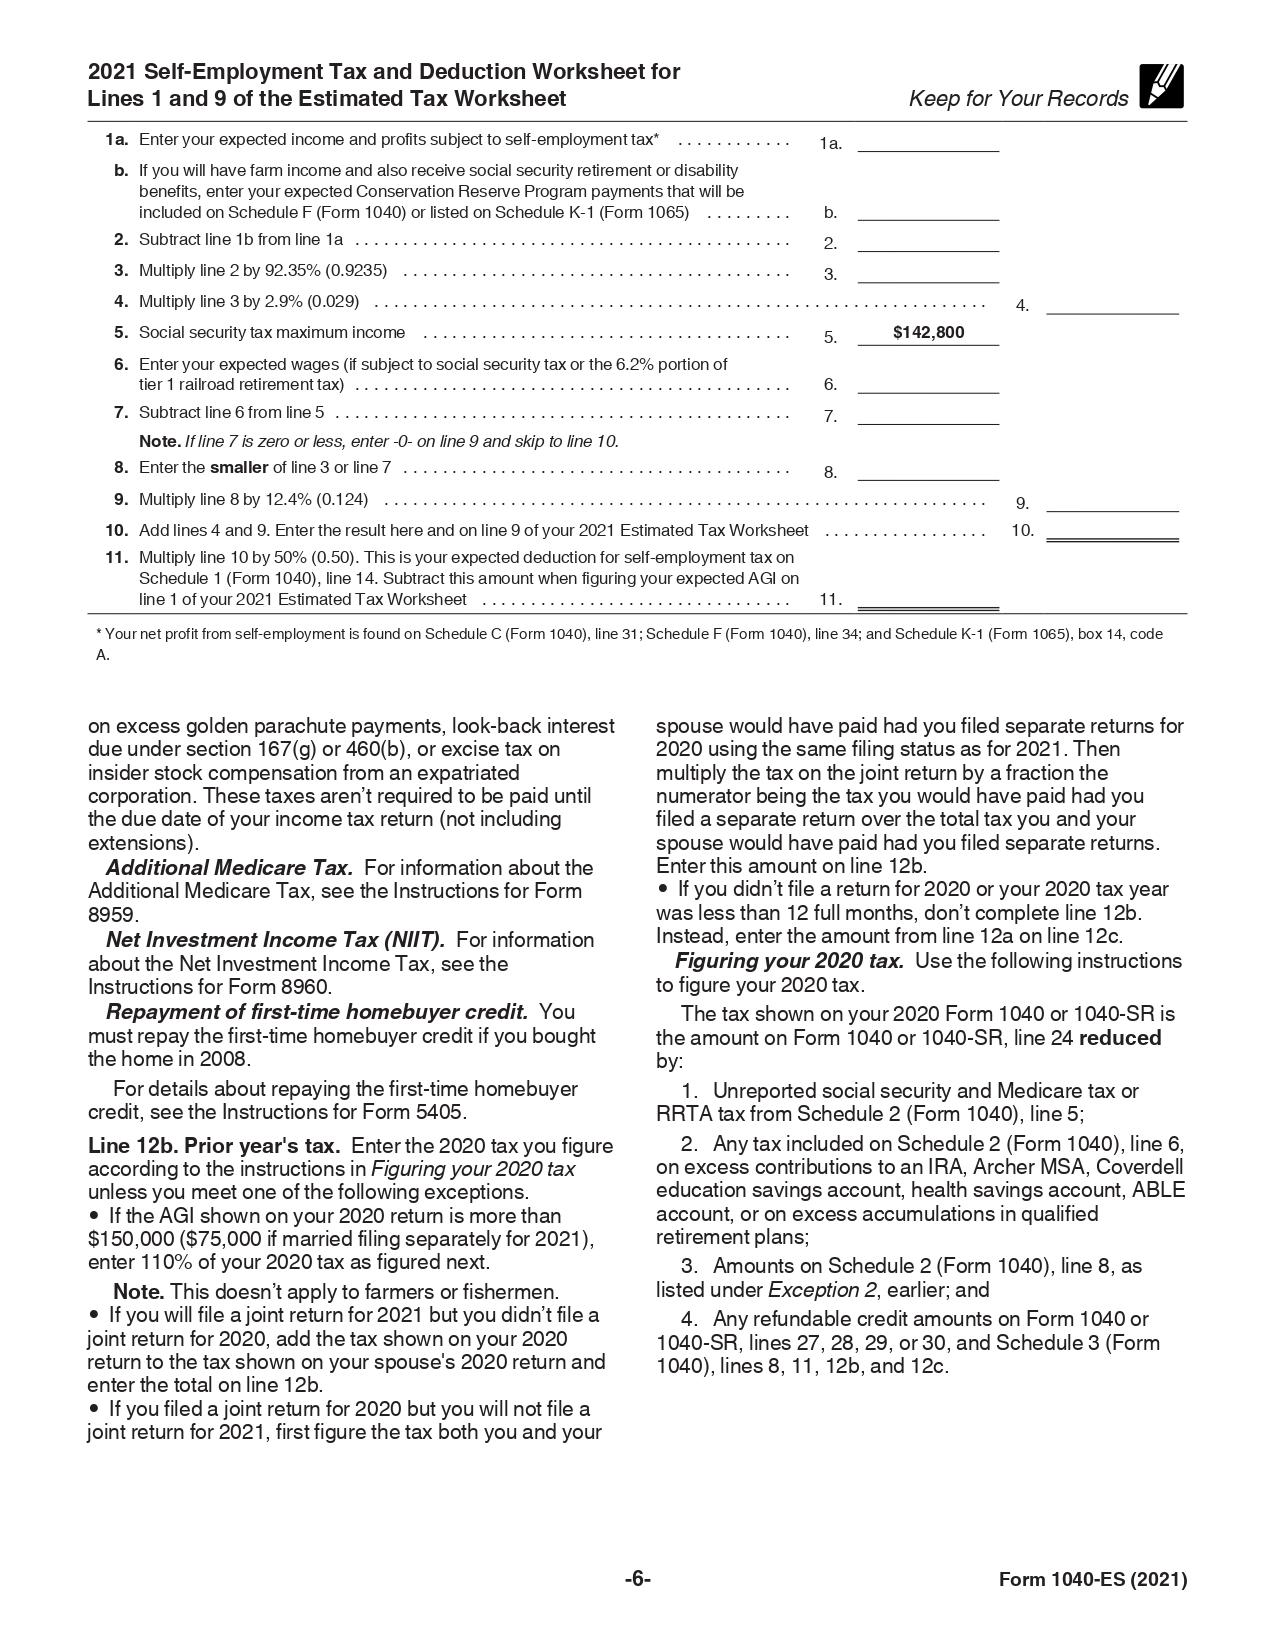table: (96, 123, 1213, 625)
